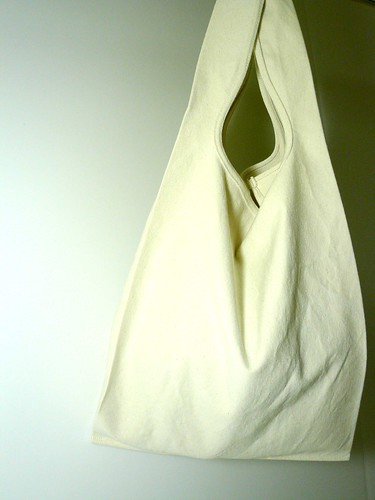plastic bag: (90, 1, 370, 464)
